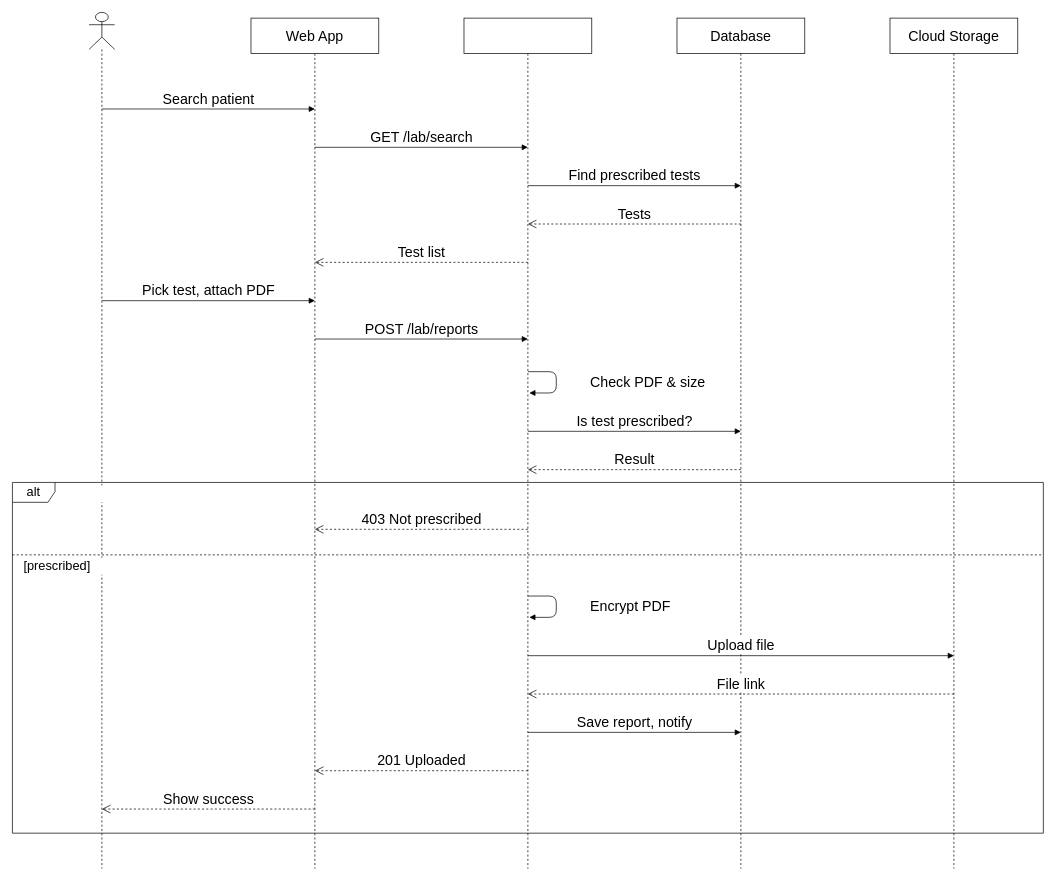
Some shapes in this 1056 by 881 pixel diagram are drawn without their labels. Each missing label, with the box of its shape:
[not prescribed]: (62, 485, 177, 502)
Lab: (88, 12, 115, 869)
Server: (463, 17, 592, 869)
